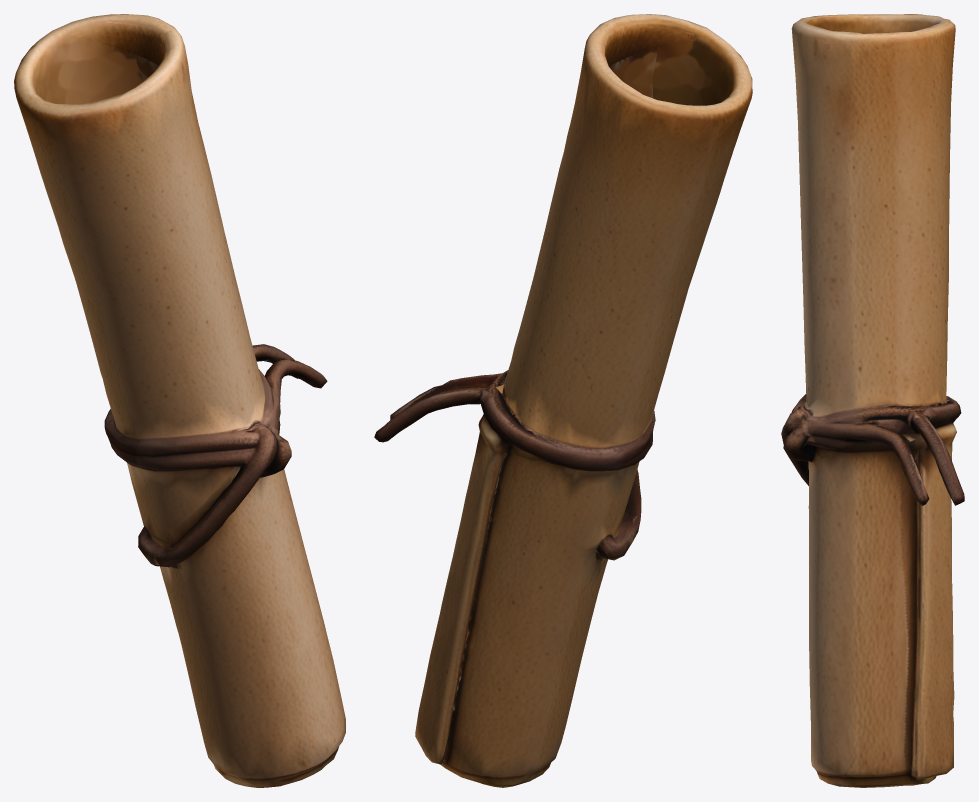
File: Map1.fbx
3 views of the same model, side by side, from view 1: azimuth 30°, elevation 25°; view 2: azimuth 150°, elevation 25°; view 3: azimuth 270°, elevation 25° (orthographic). The views are drawn at different scales.
Parts seen in each view (by area): view 1: material_0; view 2: material_0; view 3: material_0.
Boxes of the visible parts, <box> form: material_0: <box>14,14,345,787</box>; material_0: <box>374,14,752,787</box>; material_0: <box>781,14,964,787</box>.
Bounding box in the file's own units: 44.26 × 100 × 23.66.
Materials: 1 (1 with a texture image).
